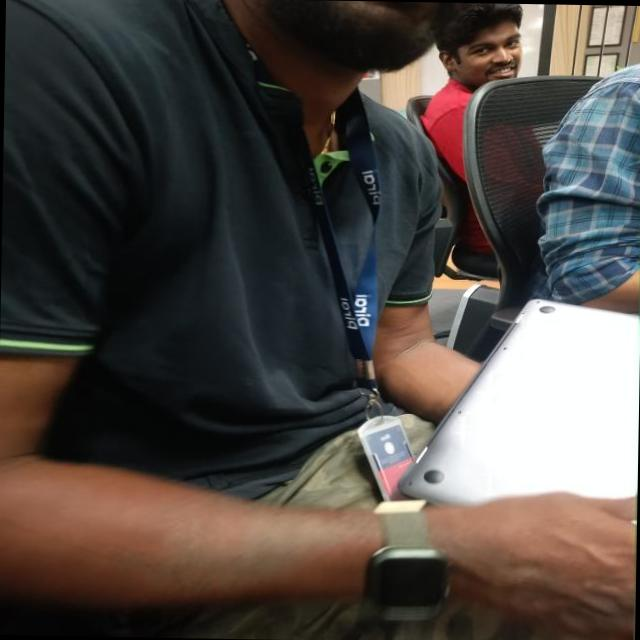id_card: (280, 44, 437, 506)
